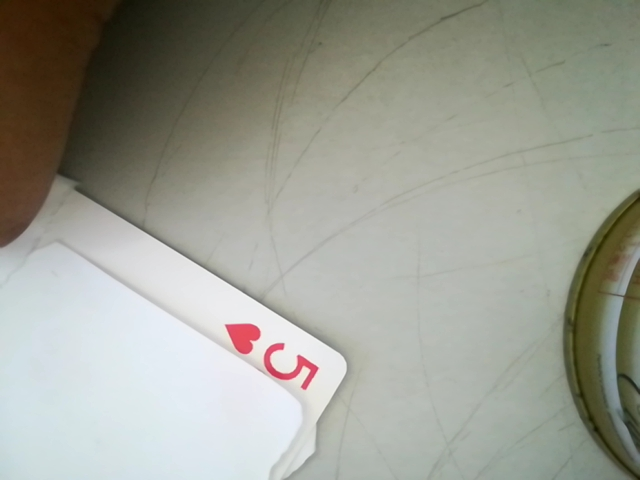hx 5: (216, 313, 332, 393)
